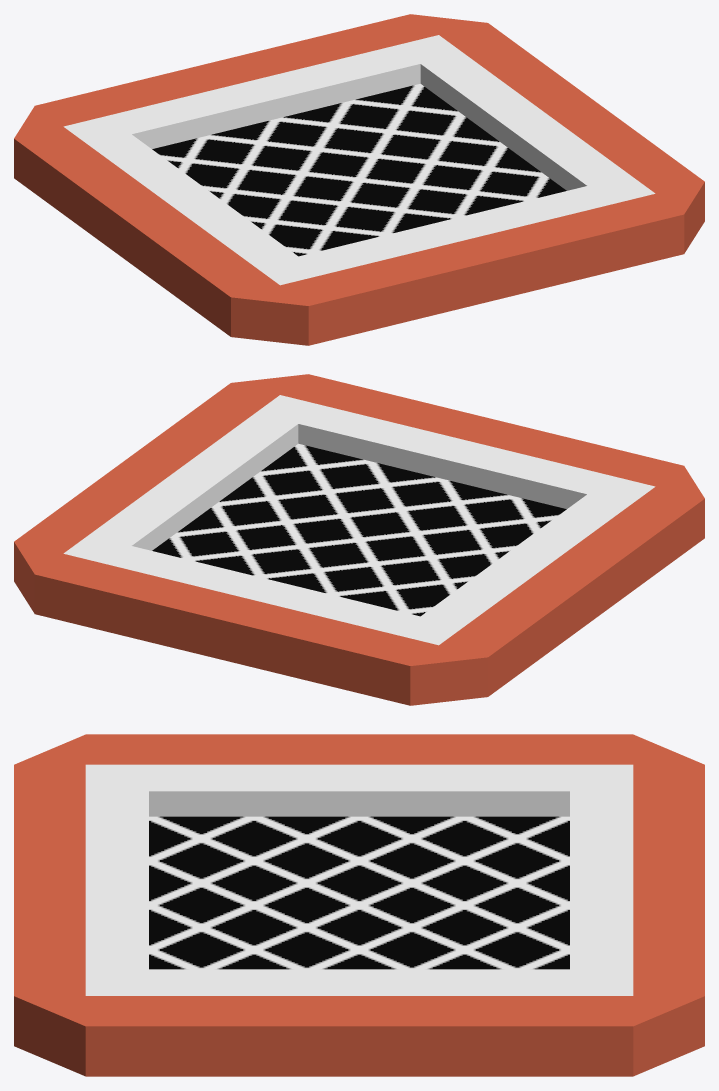
File: metalTileSmall.glb
3 views of the same model, one above another, from view 1: azimuth 30°, elevation 25°; view 2: azimuth 150°, elevation 25°; view 3: azimuth 270°, elevation 25° (orthographic). The views are drawn at different scales.
Visible parts, largest first — view 1: metalTileSmall; view 2: metalTileSmall; view 3: metalTileSmall.
Part boxes in pixels (x1=…): metalTileSmall: x1=14, y1=14, x2=704, y2=345; metalTileSmall: x1=14, y1=374, x2=704, y2=705; metalTileSmall: x1=14, y1=734, x2=704, y2=1076.
Size of the model in its own units: 5 by 0.4 by 5.
Materials: 3 (1 with a texture image).
